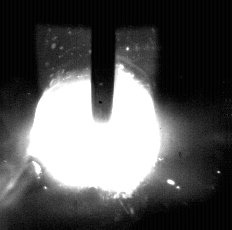arame: (92, 0, 116, 124)
poca: (28, 0, 163, 230)
